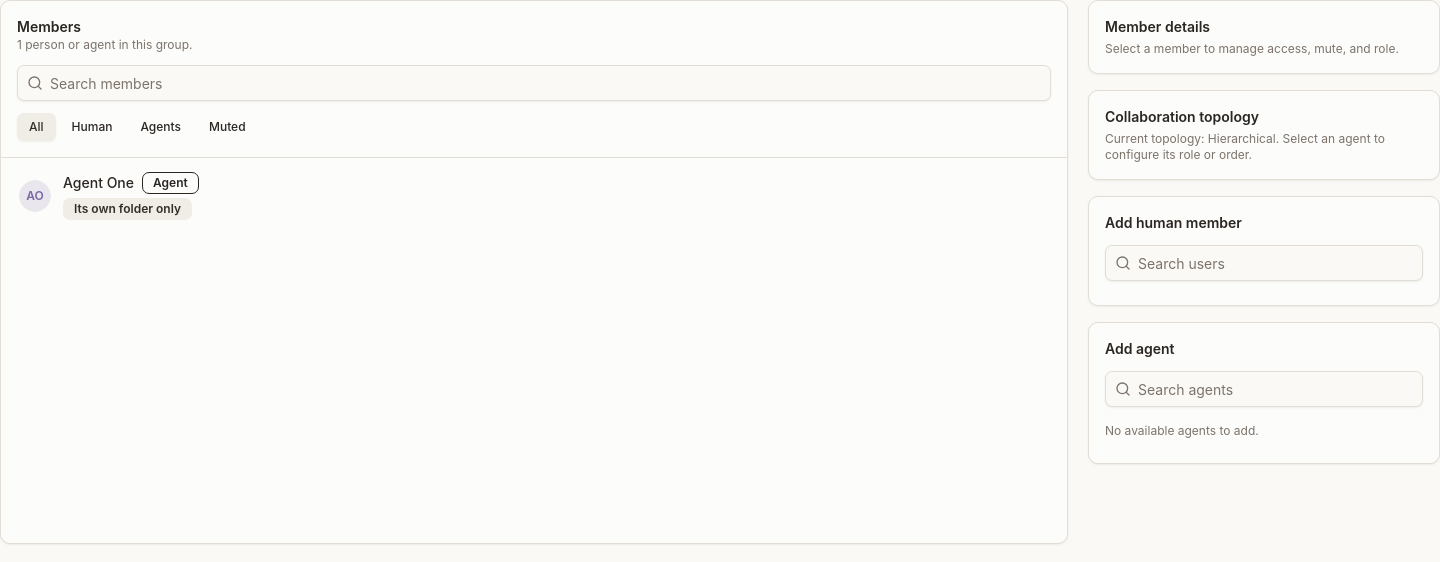
group management i18n › does not mislabel a null hierarchical topology role as Worker
Click the button "AO Agent One Agent Its own folder only": (35, 196) [7,162,1061,230]
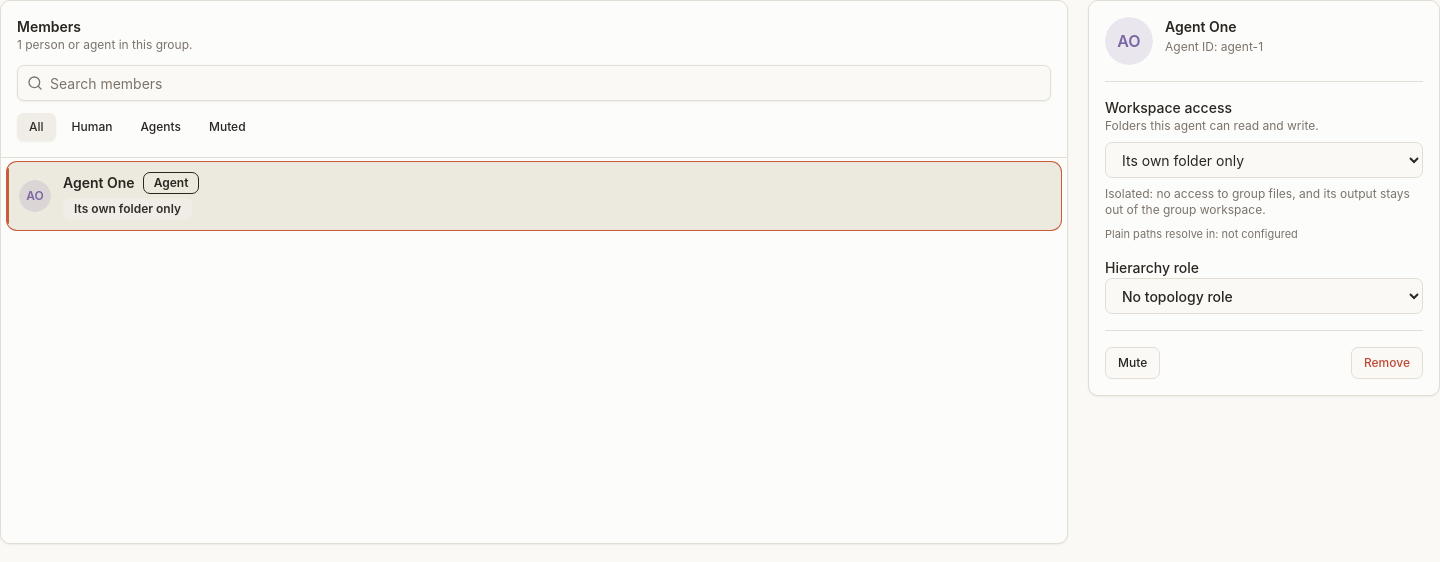
Expected: the dropdown labelled "Hierarchy role" shows "No topology role", [1105,278,1423,314]
